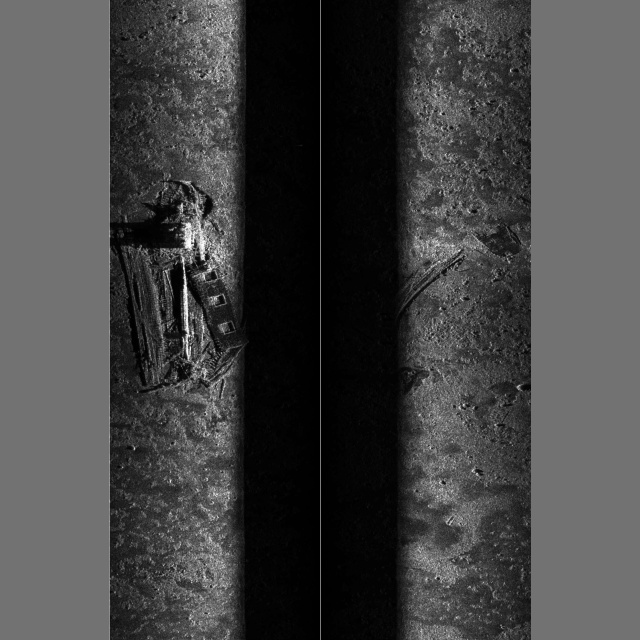Shipwreck: (117, 172, 521, 527)
